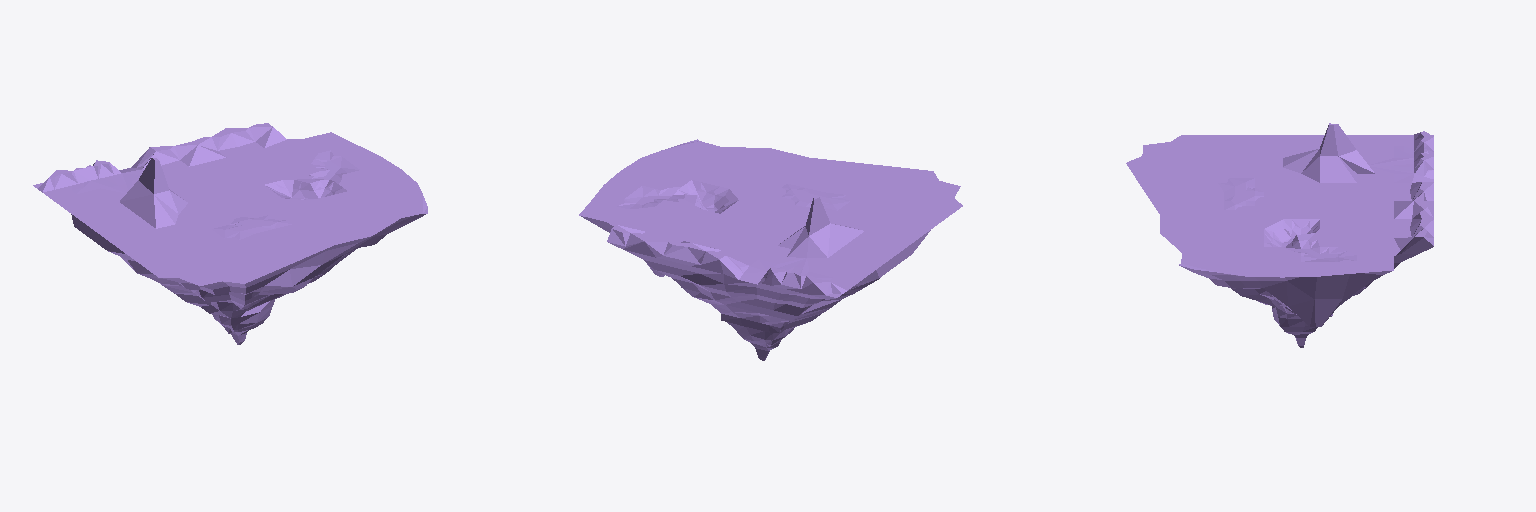
Rendered from FloatingIsland.obj.
3 renders of one model, left to right at view 1: azimuth 30°, elevation 25°; view 2: azimuth 150°, elevation 25°; view 3: azimuth 270°, elevation 25°, orthographic.
Visible parts, largest first — view 1: Box001; view 2: Box001; view 3: Box001.
Boxes of the visible parts, box(x1,y1,x2,y2) form: Box001: box(33, 123, 427, 344); Box001: box(579, 139, 962, 360); Box001: box(1126, 123, 1433, 347).
Size of the model in its own units: 723 by 450 by 658.